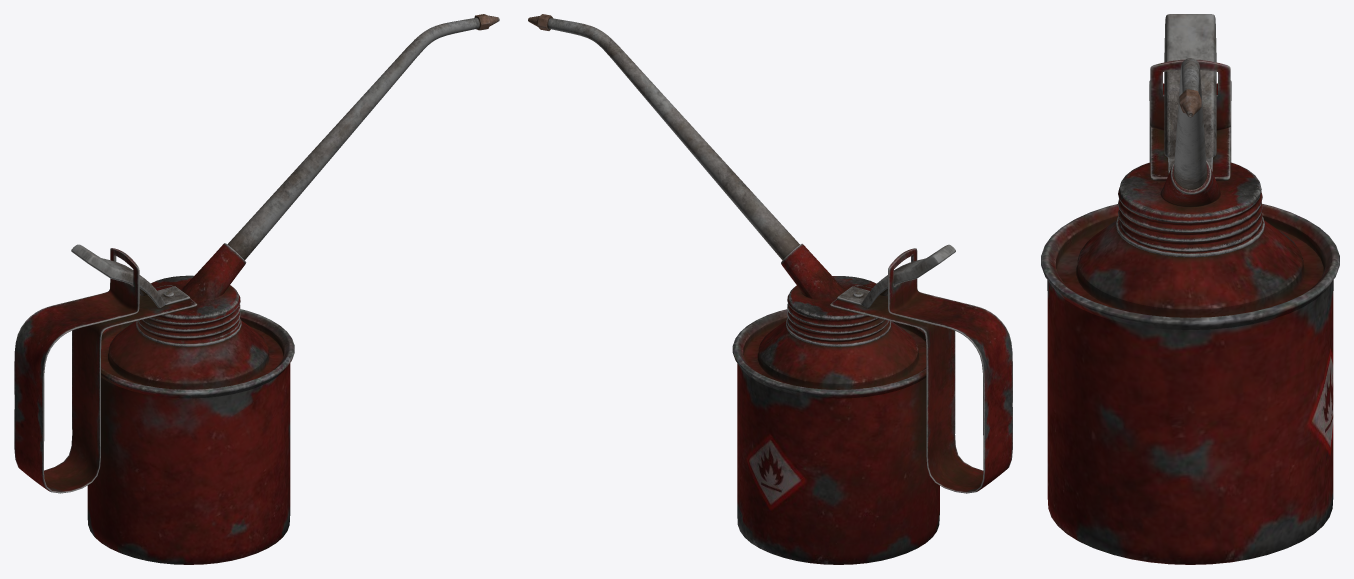
Rendered from small_oil_can_01_1k.fbx.
The picture shows the model from 3 angles, left to right: view 1: azimuth 30°, elevation 25°; view 2: azimuth 150°, elevation 25°; view 3: azimuth 270°, elevation 25°; orthographic projection. The views are drawn at different scales.
Parts seen in each view (by area): view 1: small_oil_can_01; view 2: small_oil_can_01; view 3: small_oil_can_01.
Part boxes in pixels (box(x1,y1,x2,y2)): small_oil_can_01: box(14, 14, 499, 564); small_oil_can_01: box(528, 14, 1012, 564); small_oil_can_01: box(1041, 14, 1339, 564).
Bounding box in the file's own units: 26.61 × 23.68 × 10.38.
1 material, 1 textured.
